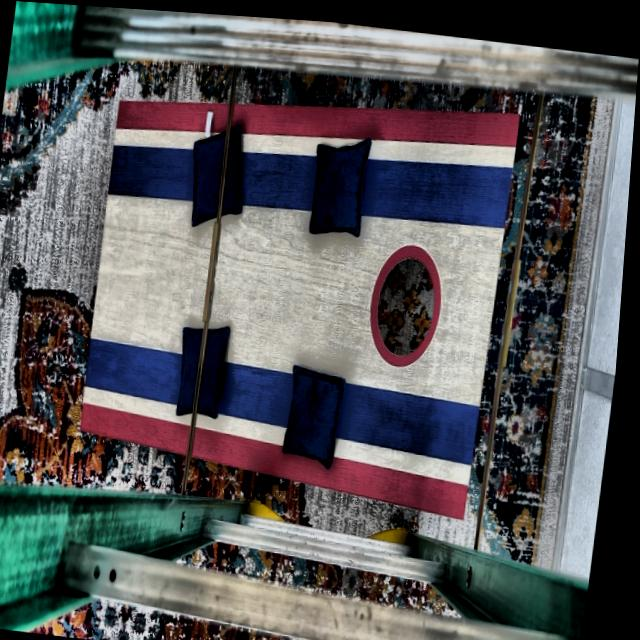blue-bean-bag: (186, 118, 254, 230), (309, 128, 376, 235), (287, 361, 351, 462), (177, 319, 235, 417)
board: (86, 98, 515, 472)
hole: (369, 235, 451, 364)
